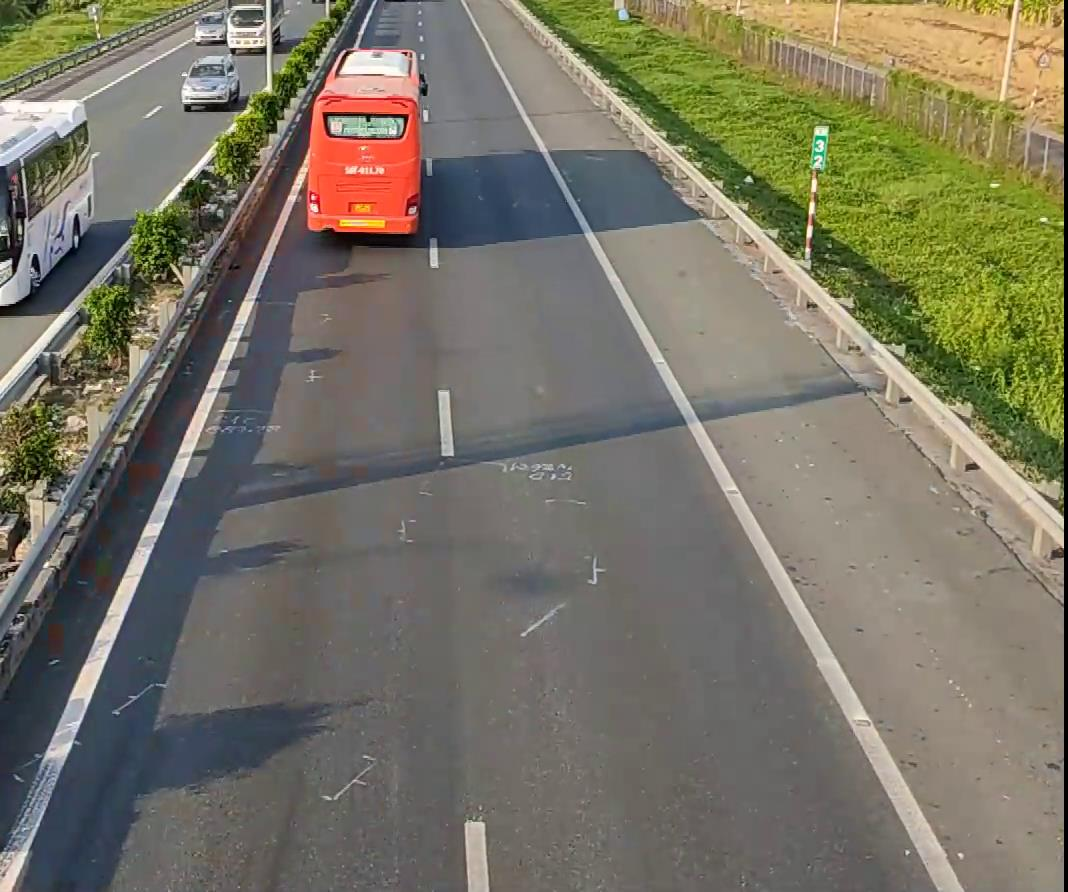bus: (303, 46, 427, 237), (0, 96, 97, 308)
